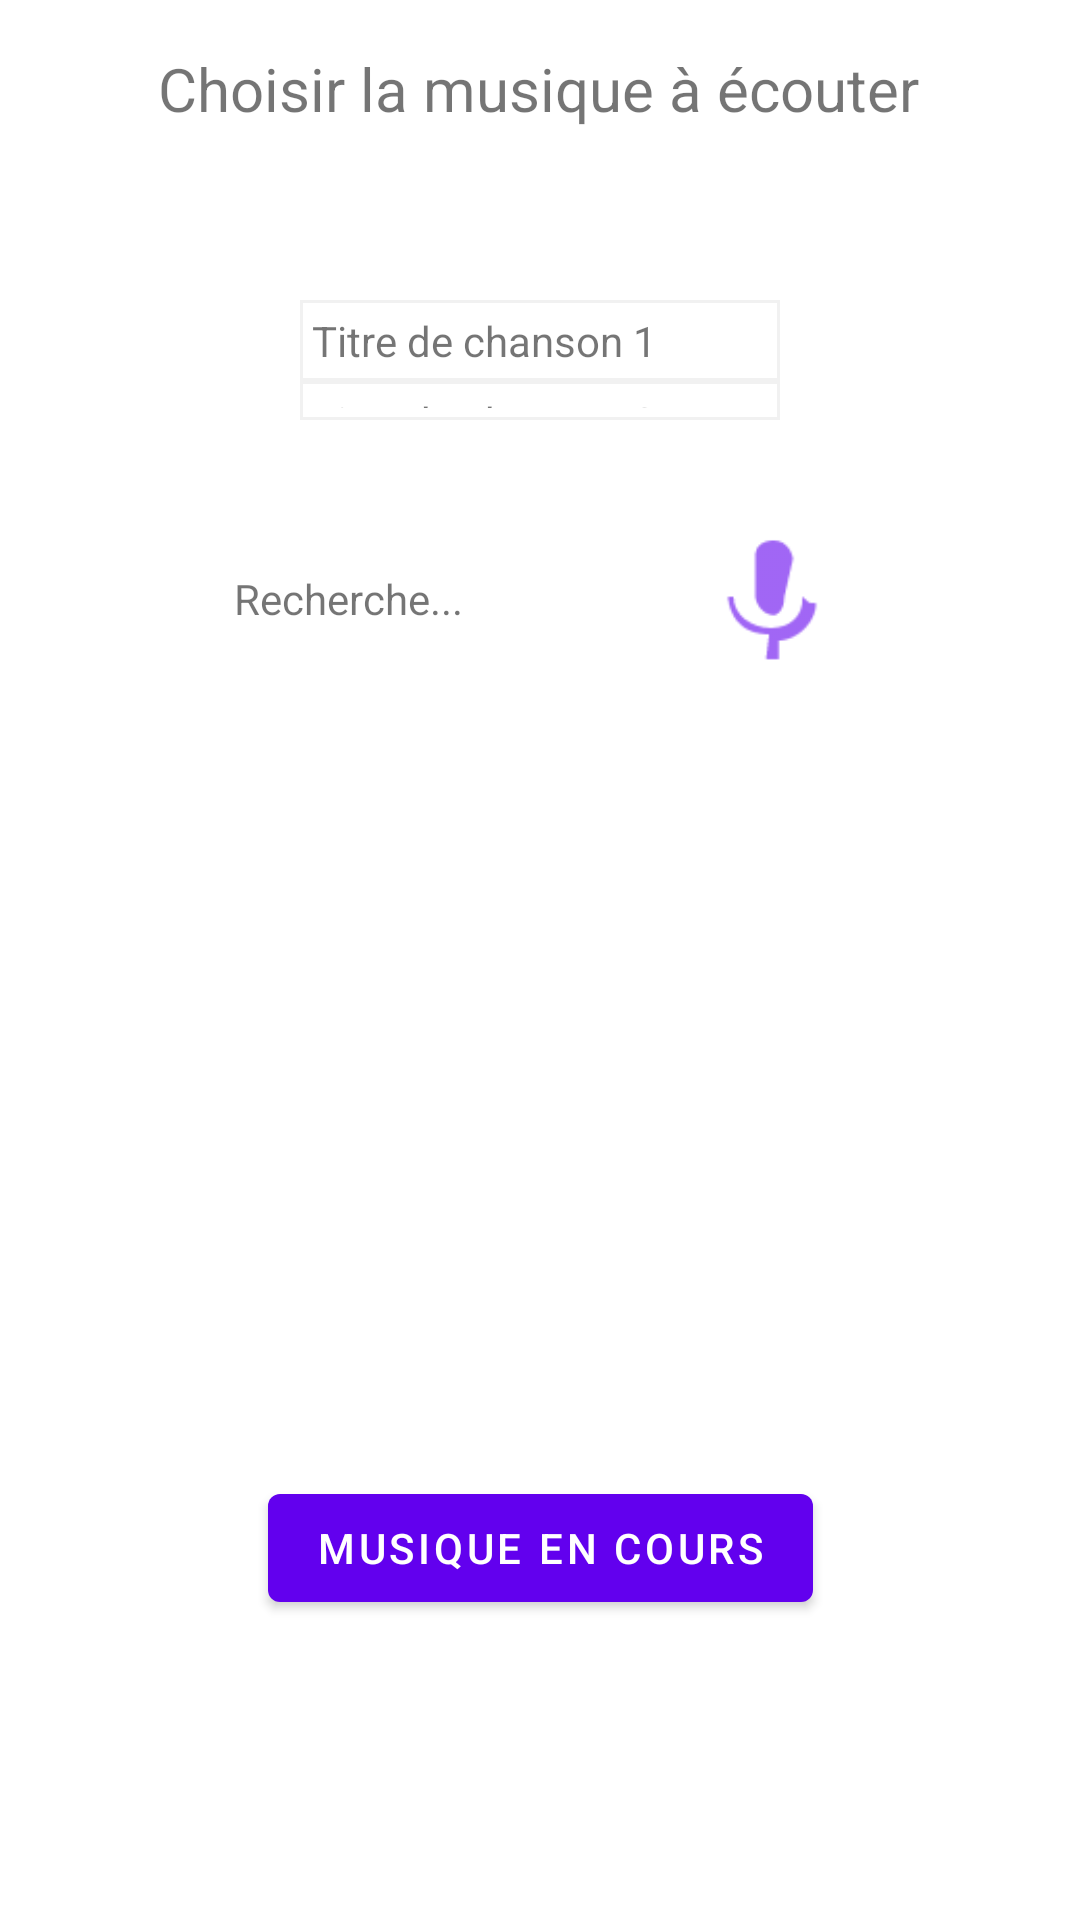

Icon bounding boxes for this 1080*1920 phone screenshot, format (x1, y1, x2, y2):
mic: (727, 540, 817, 660)
